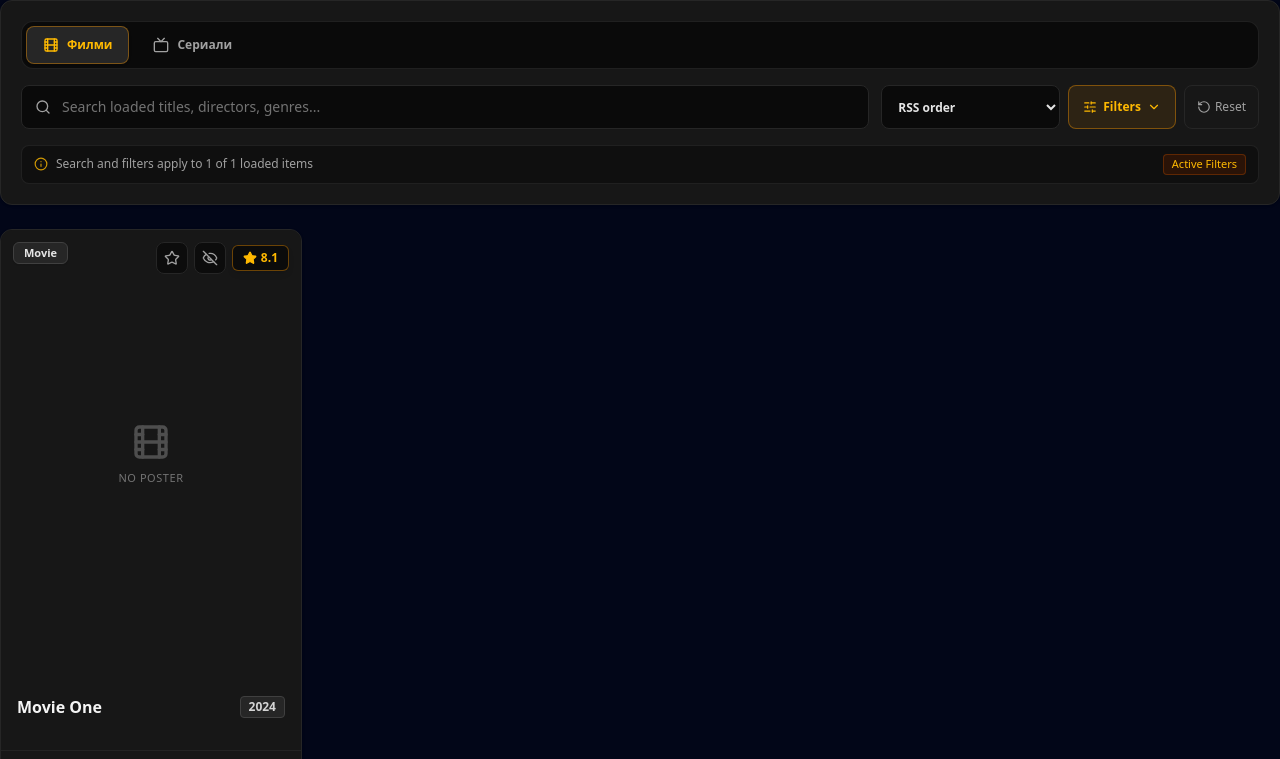
Test: Catalog Query and Pagination › renders only Movies and Series tabs and switches RSS category
This screenshot has width=1280, height=759.
Expected: the heading "Movie One" is shown, [17,696,102,718]
Expected: the button with test id "view-mode-movies" is shown, [26,26,130,64]
Click the button with test id "view-mode-series". click: (193, 45)
box: [138,26,248,64]
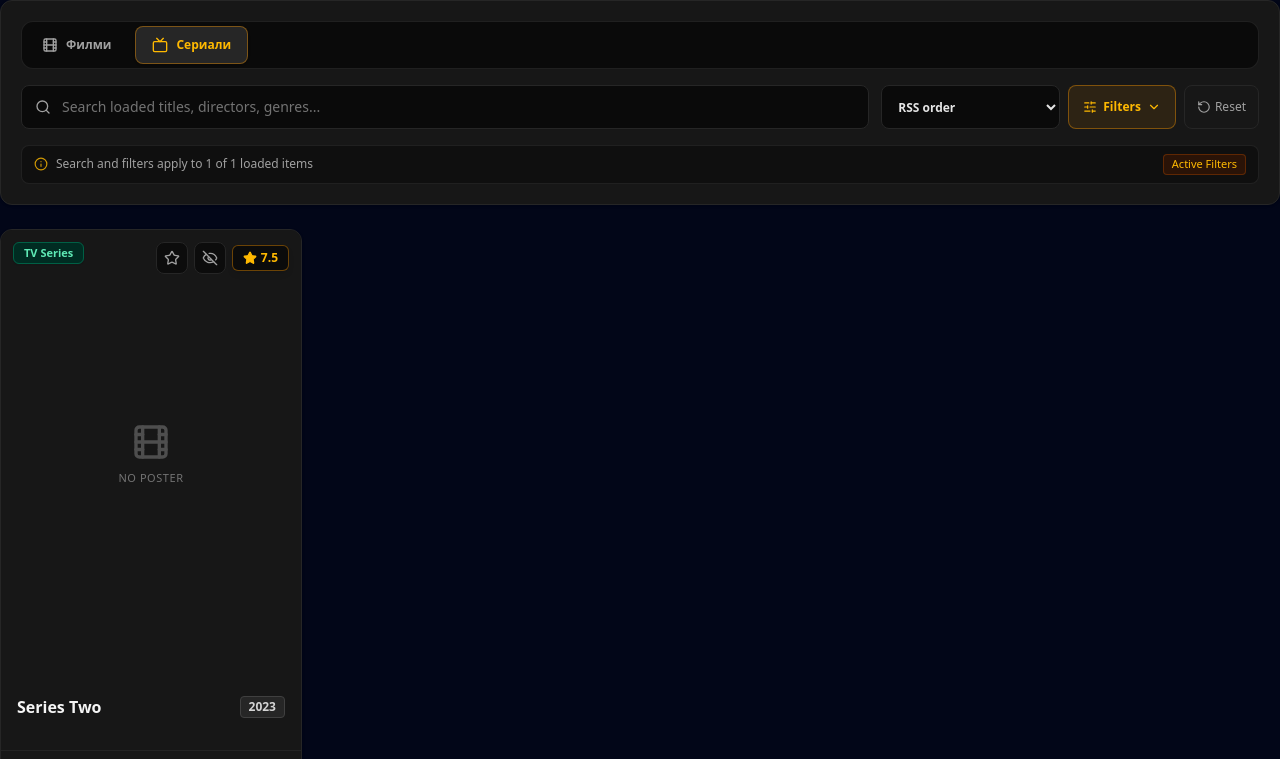
Expected: the heading "Series Two" is shown, [17,696,102,718]
Expected: the heading "Movie One" is gone
